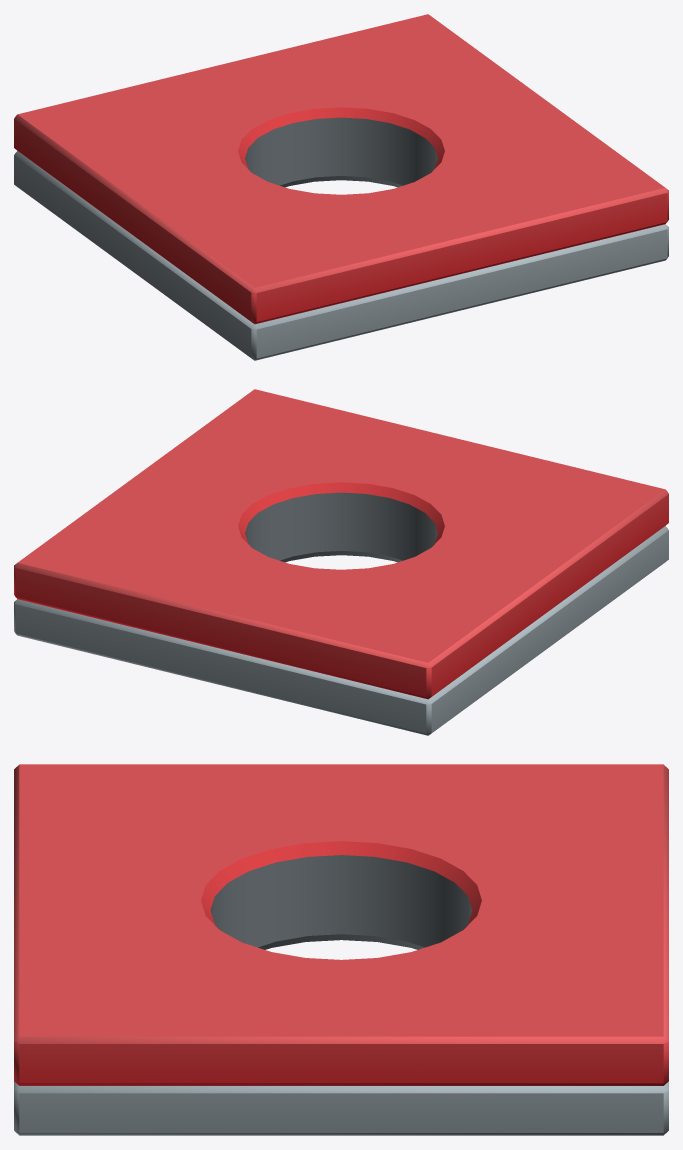
The model's file is kaykit_platform_hole_6x6x1_red.glb.
3 renders of one model, top to bottom at view 1: azimuth 30°, elevation 25°; view 2: azimuth 150°, elevation 25°; view 3: azimuth 270°, elevation 25°, orthographic. The views are drawn at different scales.
Parts seen in each view (by area): view 1: platform_hole_6x6x1_red_visual; view 2: platform_hole_6x6x1_red_visual; view 3: platform_hole_6x6x1_red_visual.
Part boxes in pixels (x1,y1,x2,y2): platform_hole_6x6x1_red_visual: (14,14,668,360); platform_hole_6x6x1_red_visual: (14,389,668,735); platform_hole_6x6x1_red_visual: (14,764,668,1135).
Size of what is drawn, in the model's own units: 6 by 1 by 6.
1 material, 1 textured.
